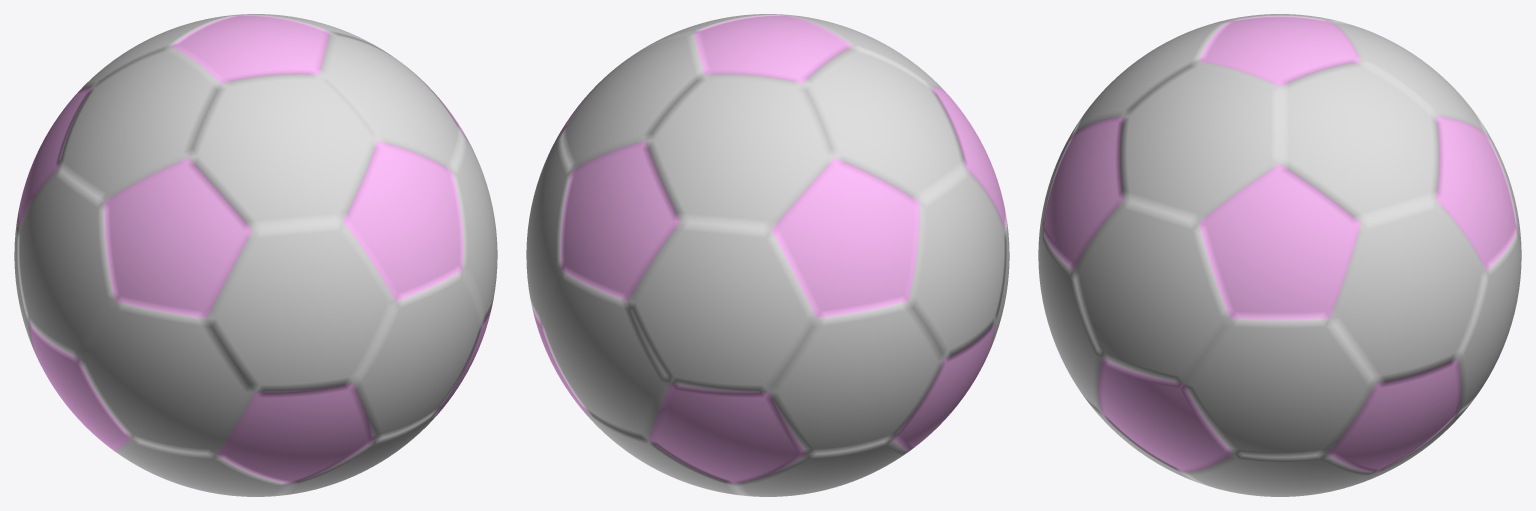
The model's file is BALL.fbx.
The picture shows the model from 3 angles, left to right: view 1: azimuth 30°, elevation 25°; view 2: azimuth 150°, elevation 25°; view 3: azimuth 270°, elevation 25°; orthographic projection.
Visible parts, largest first — view 1: Icosphere; view 2: Icosphere; view 3: Icosphere.
Boxes of the visible parts, left/top/right/bottom form: Icosphere: left=14, top=14, right=497, bottom=496; Icosphere: left=526, top=14, right=1009, bottom=496; Icosphere: left=1038, top=14, right=1521, bottom=496.
Bounding box in the file's own units: 20 × 20 × 20.
